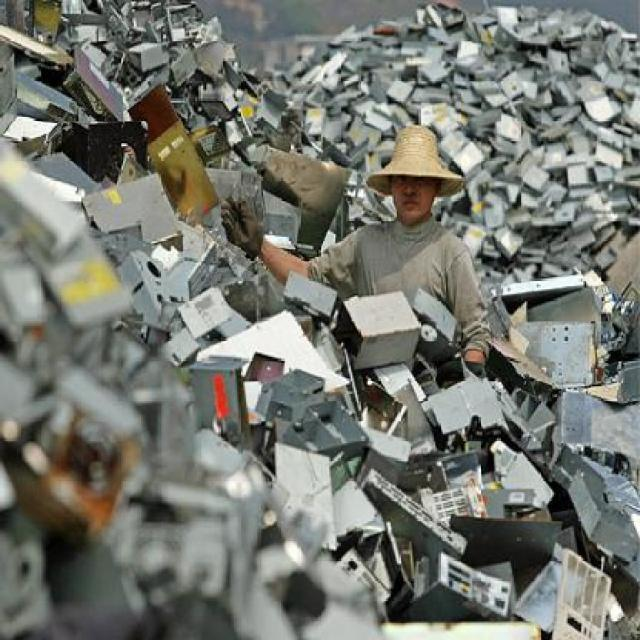garbage: (2, 2, 638, 638), (264, 12, 635, 625)
